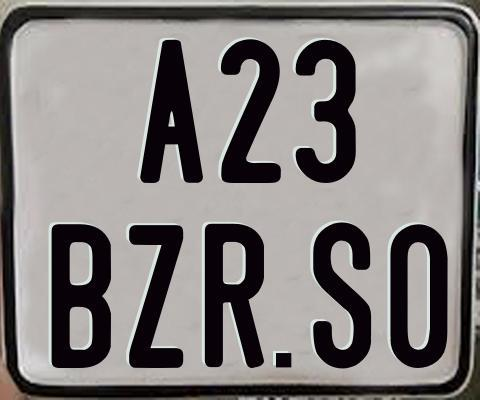0: (389, 223, 451, 367)
2: (221, 39, 286, 188)
3: (293, 39, 357, 185)
A: (137, 40, 206, 188)
B: (51, 224, 112, 371)
R: (204, 222, 263, 368)
S: (310, 222, 373, 370)
Z: (126, 224, 186, 371)
